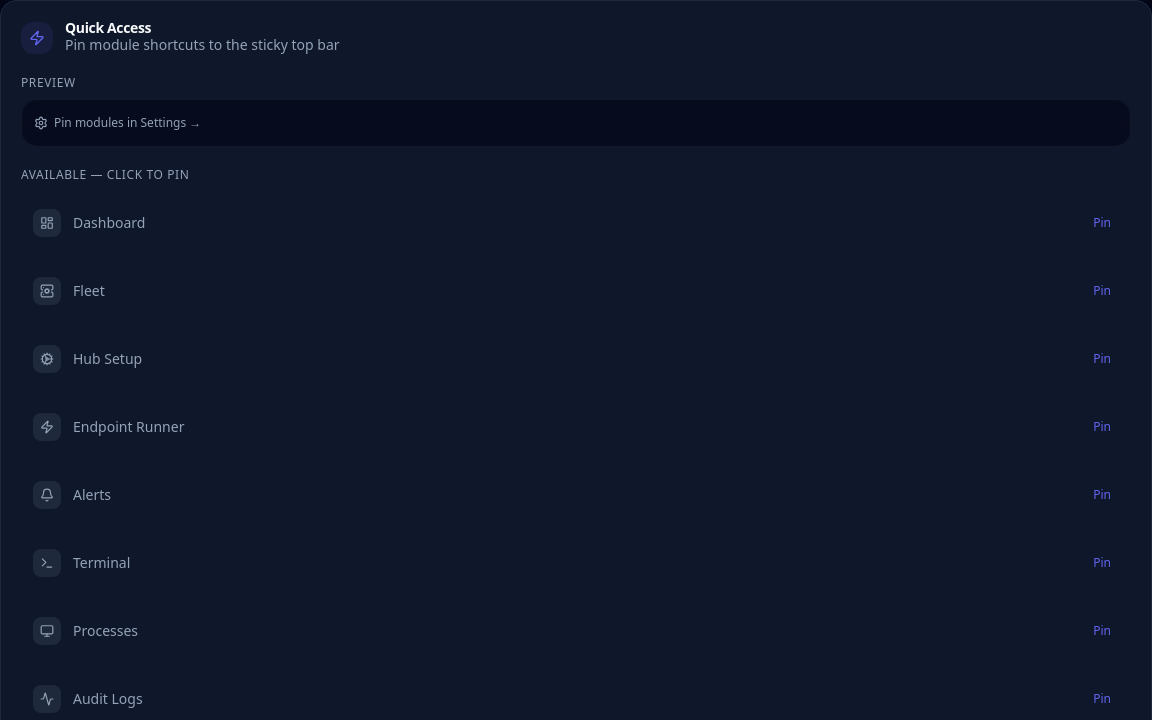
QuickAccessSettings › pins a module when the Pin button is clicked
Expected: the text "Terminal" is shown, [73,553,130,572]
Click the button "Pin" in the row of "Terminal" at (1102,563), box [1085,541,1119,585]
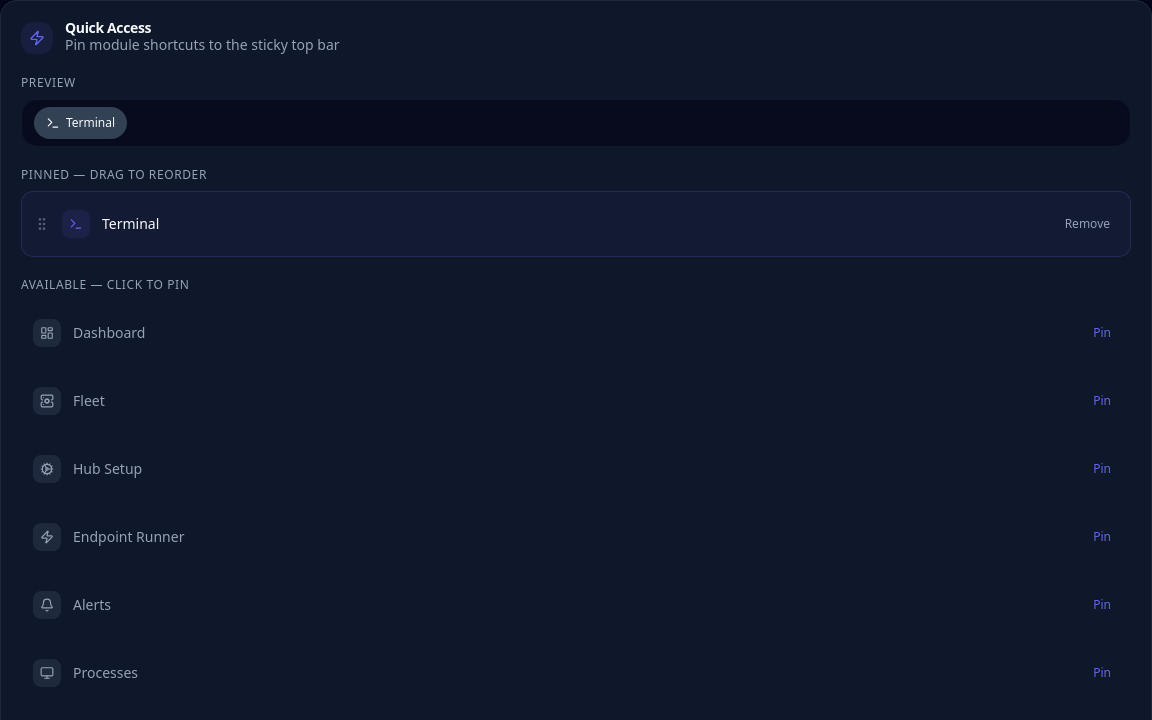
Result: the text "Terminal" below "Preview" is shown at [66,114,115,131]
